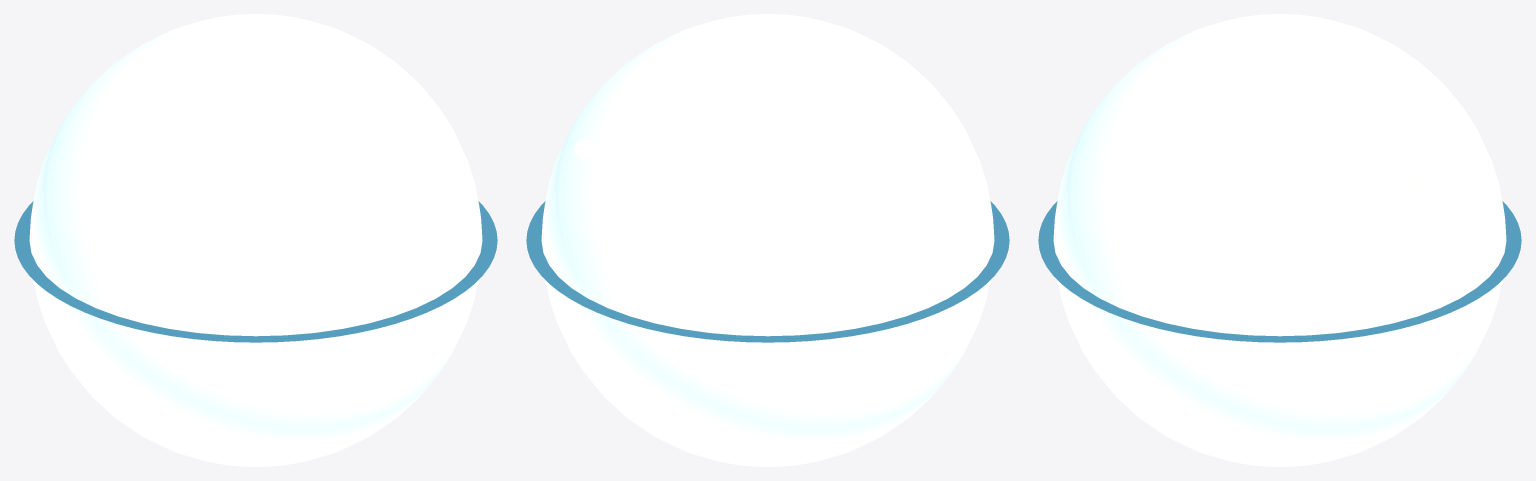
The model's file is island_world.glb.
The picture shows the model from 3 angles, left to right: view 1: azimuth 30°, elevation 25°; view 2: azimuth 150°, elevation 25°; view 3: azimuth 270°, elevation 25°; orthographic projection.
Parts seen in each view (by area): view 1: Sky Dome, Sea; view 2: Sky Dome, Sea; view 3: Sky Dome, Sea.
Boxes of the visible parts, x1,y1,x2,y2 form: Sky Dome: (29,14,482,466); Sea: (14,201,497,342); Sky Dome: (541,14,994,466); Sea: (526,201,1009,342); Sky Dome: (1053,14,1506,466); Sea: (1038,201,1521,342).
Size of the model in its own units: 640 by 600 by 640.
